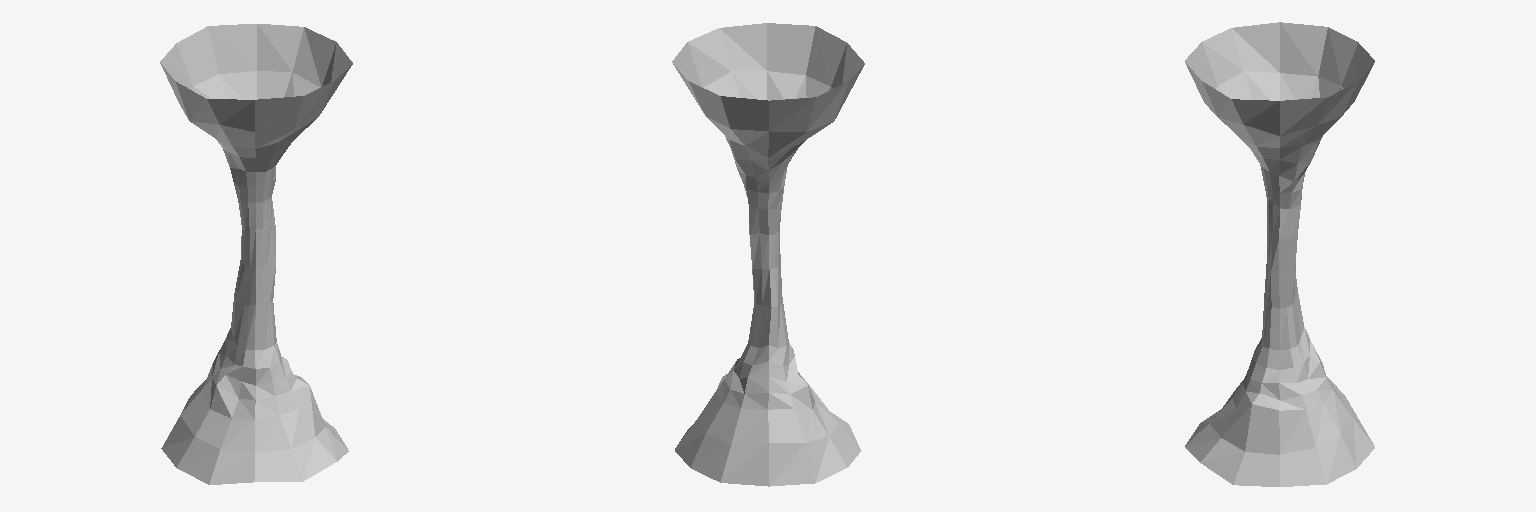
File: Mesh_CavePack_Pillar1_lod0.obj
The picture shows the model from 3 angles: view 1: azimuth 30°, elevation 25°; view 2: azimuth 150°, elevation 25°; view 3: azimuth 270°, elevation 25°; orthographic projection.
Visible parts, largest first — view 1: Circle_Circle.003; view 2: Circle_Circle.003; view 3: Circle_Circle.003.
Boxes of the visible parts, box(x1,y1,x2,y2) form: Circle_Circle.003: box(160, 24, 352, 484); Circle_Circle.003: box(672, 23, 864, 486); Circle_Circle.003: box(1185, 22, 1374, 486).
Size of the model in its own units: 7.6 by 17.58 by 7.81.